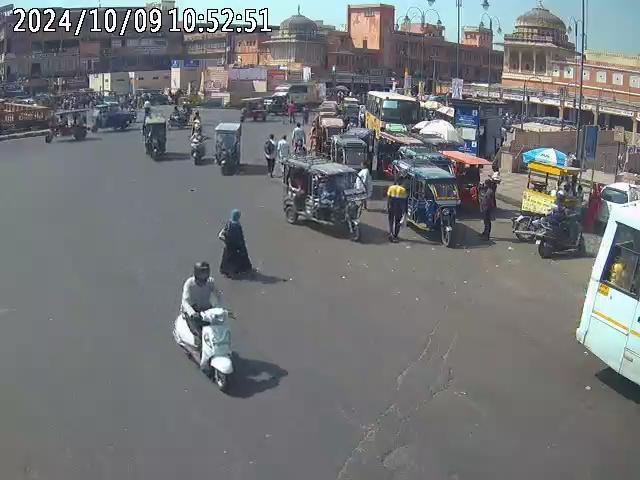auto: (280, 154, 368, 241), (407, 165, 462, 247), (444, 146, 496, 212), (213, 119, 243, 175), (44, 110, 88, 142), (140, 115, 168, 158), (240, 97, 269, 123), (339, 97, 362, 124)
bus: (364, 89, 420, 134)
car: (593, 181, 640, 224)
helmet: (192, 258, 212, 282)
person: (216, 208, 256, 282), (384, 177, 408, 243), (477, 174, 497, 241), (263, 133, 278, 179), (292, 130, 307, 157)
scooty: (538, 208, 585, 258)
scooty-rider: (173, 260, 241, 392), (189, 124, 209, 165)
